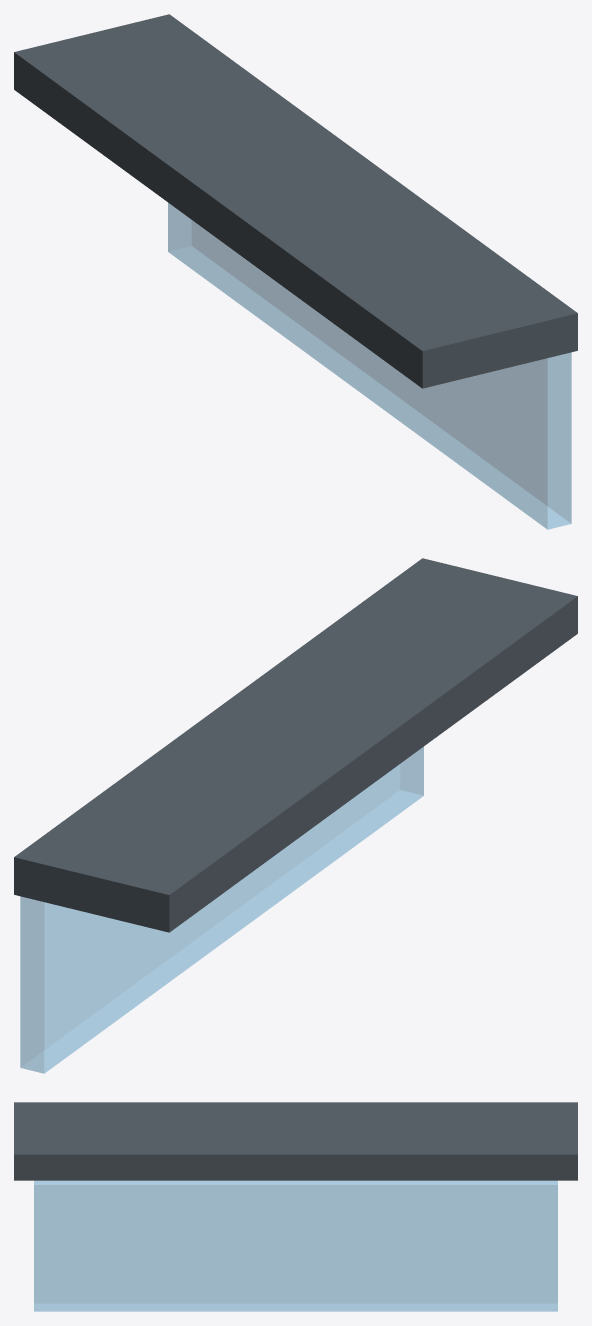
File: wall.reinforced_window_slot.glb
3 renders of one model, top to bottom at view 1: azimuth 30°, elevation 25°; view 2: azimuth 150°, elevation 25°; view 3: azimuth 270°, elevation 25°, orthographic. The views are drawn at different scales.
Visible parts, largest first — view 1: steel_lintel, armored_glass; view 2: steel_lintel, armored_glass; view 3: armored_glass, steel_lintel.
Part boxes in pixels (bbox=[...]): steel_lintel: bbox=[14, 14, 577, 388]; armored_glass: bbox=[168, 203, 571, 529]; steel_lintel: bbox=[14, 558, 577, 932]; armored_glass: bbox=[20, 747, 423, 1073]; armored_glass: bbox=[34, 1180, 557, 1311]; steel_lintel: bbox=[14, 1102, 577, 1180].
Size of what is drawn, in the model's own units: 0.82 by 1.07 by 3.55.
